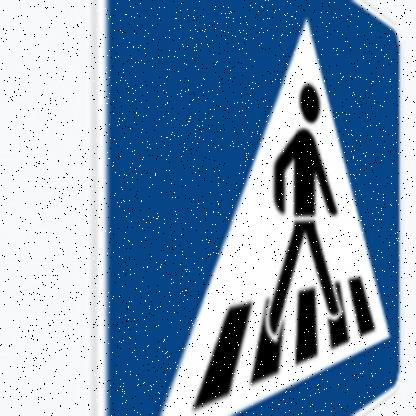Pedestrian Crossing: (93, 1, 406, 416)
